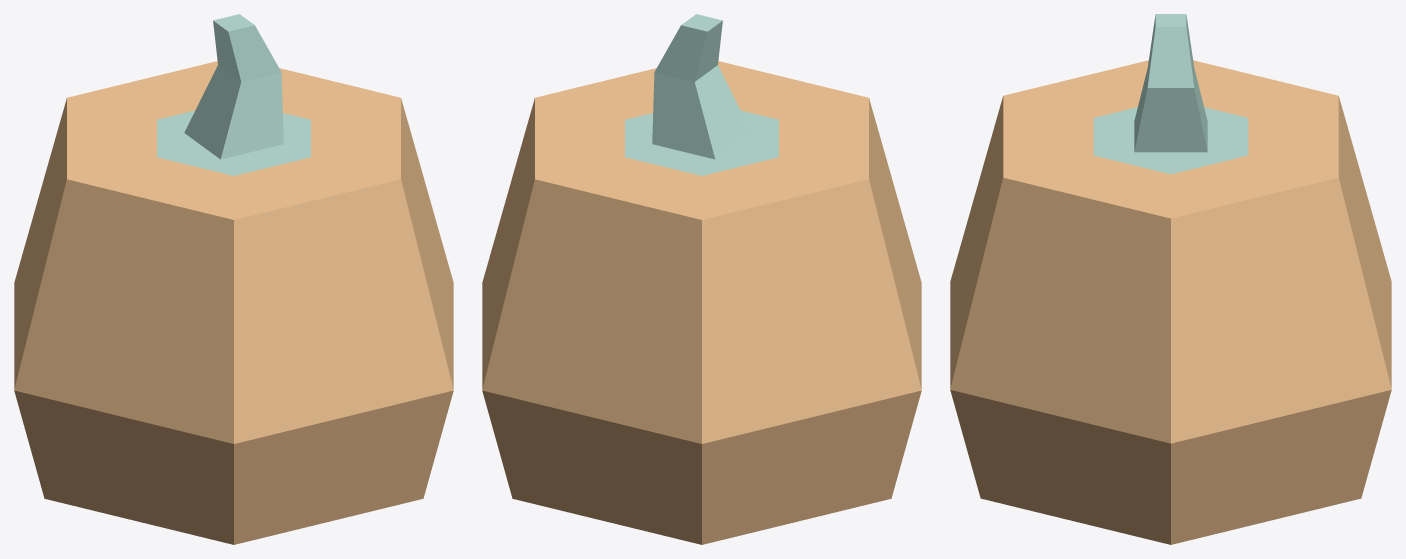
The model's file is pumpkinTall.glb.
The picture shows the model from 3 angles, left to right: view 1: azimuth 30°, elevation 25°; view 2: azimuth 150°, elevation 25°; view 3: azimuth 270°, elevation 25°; orthographic projection.
Visible parts, largest first — view 1: pumpkinTall(Clone); view 2: pumpkinTall(Clone); view 3: pumpkinTall(Clone).
Boxes of the visible parts, bbox=[...] form: pumpkinTall(Clone): bbox=[14, 14, 453, 544]; pumpkinTall(Clone): bbox=[482, 14, 921, 544]; pumpkinTall(Clone): bbox=[950, 14, 1391, 544].
Size of the model in its own units: 0.2784 by 0.26 by 0.2411.
